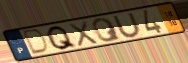4: (142, 8, 165, 35)
D: (23, 28, 51, 57)
Q: (46, 25, 79, 52), (91, 17, 123, 43)
U: (112, 11, 145, 38)
X: (67, 20, 101, 48)
